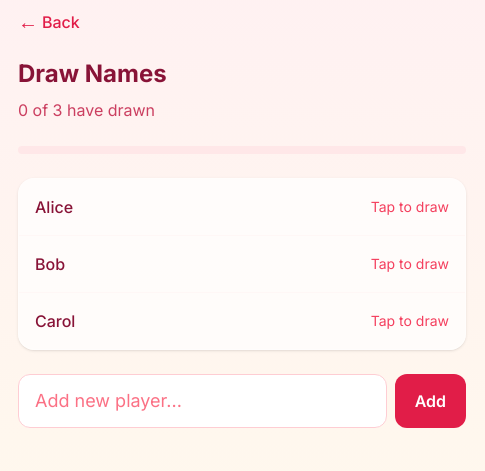
DrawScreen › List phase › shows error for duplicate player name
Type "Alice" into the field with placeholder "Add new player...".
click(202, 401); type("Alice")  # box [18,374,387,428]
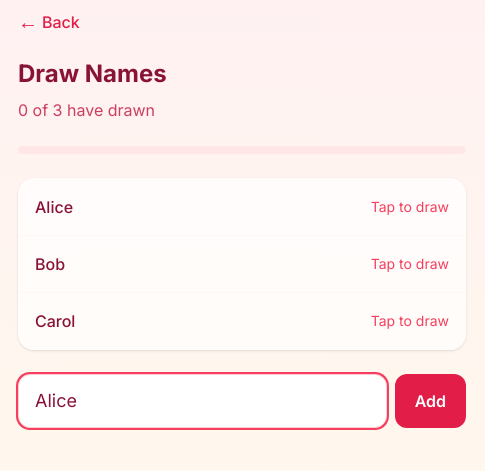
Click the button "Add".
click(430, 401)  # box [395,374,466,428]
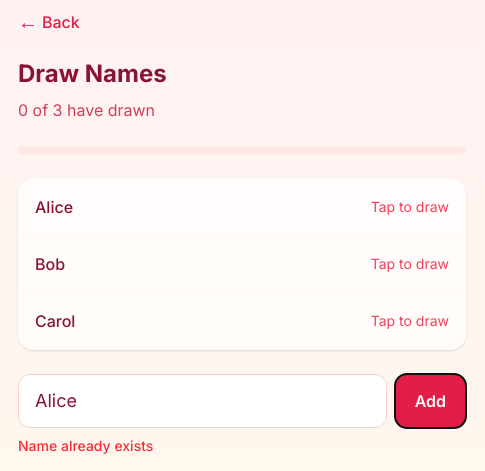
Expected: the message reads "Name already exists", [18,437,153,454]
